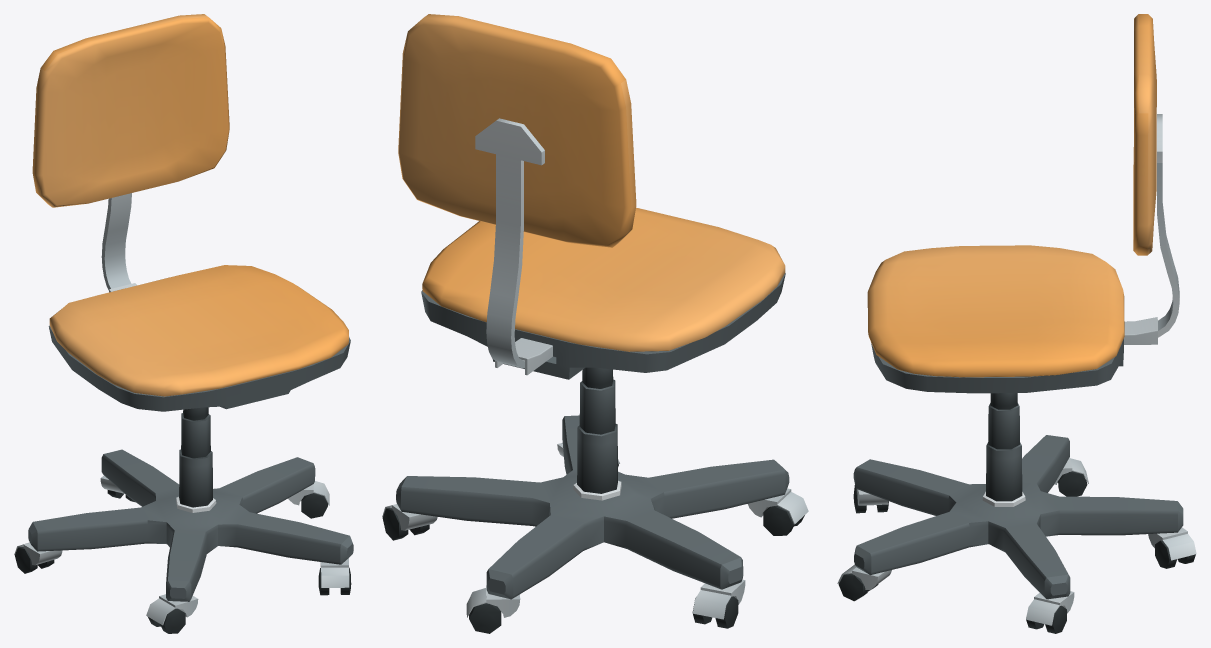
File: Chair 1.fbx
3 renders of one model, left to right at view 1: azimuth 30°, elevation 25°; view 2: azimuth 150°, elevation 25°; view 3: azimuth 270°, elevation 25°, orthographic. The views are drawn at different scales.
Visible parts, largest first — view 1: Lab_Chair:plastic1; view 2: Lab_Chair:plastic1; view 3: Lab_Chair:plastic1.
Boxes of the visible parts, x1,y1,x2,y2 form: Lab_Chair:plastic1: (14,14,353,633); Lab_Chair:plastic1: (382,14,808,633); Lab_Chair:plastic1: (837,14,1196,633).
Size of the model in its own units: 0.7538 by 1.16 by 0.7399.
